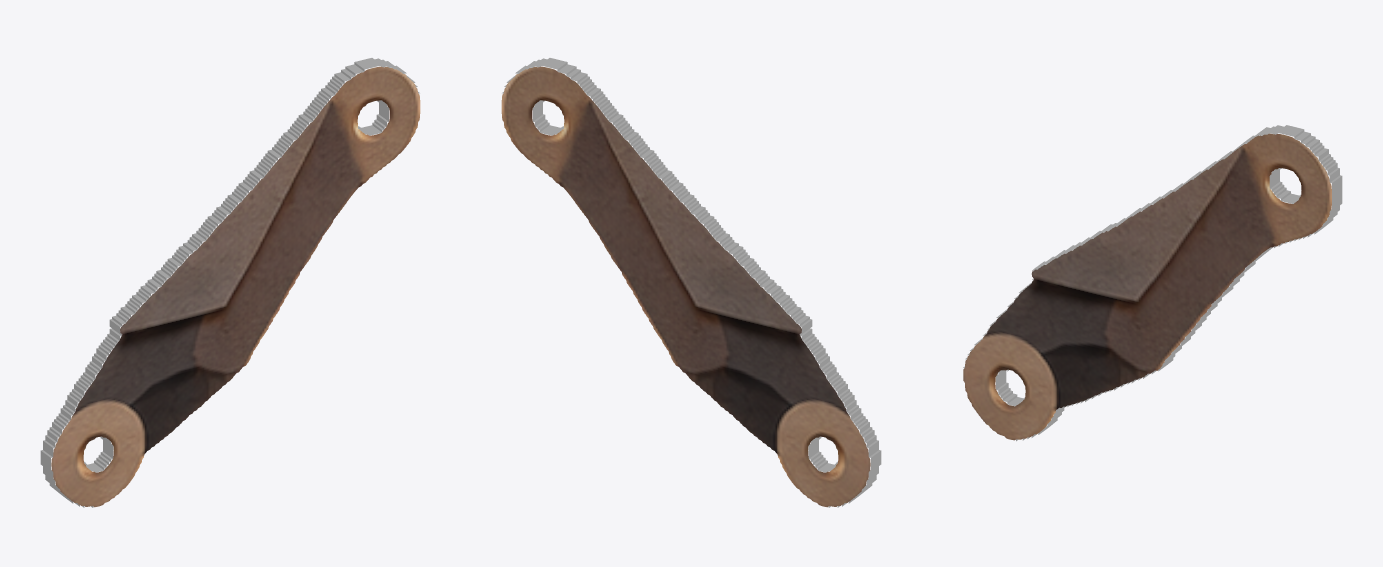
File: Variant01Upper.glb
3 views of the same model, side by side, from view 1: azimuth 30°, elevation 25°; view 2: azimuth 150°, elevation 25°; view 3: azimuth 330°, elevation 25° (orthographic).
Visible parts, largest first — view 1: PaperVolume; view 2: PaperVolume; view 3: PaperVolume.
Part boxes in pixels (x1,y1,x2,y2): PaperVolume: [40, 58, 420, 507]; PaperVolume: [501, 58, 881, 507]; PaperVolume: [963, 125, 1342, 441].
Bounding box in the file's own units: 1.9 × 1.84 × 0.08.
Materials: 3 (2 with a texture image).
